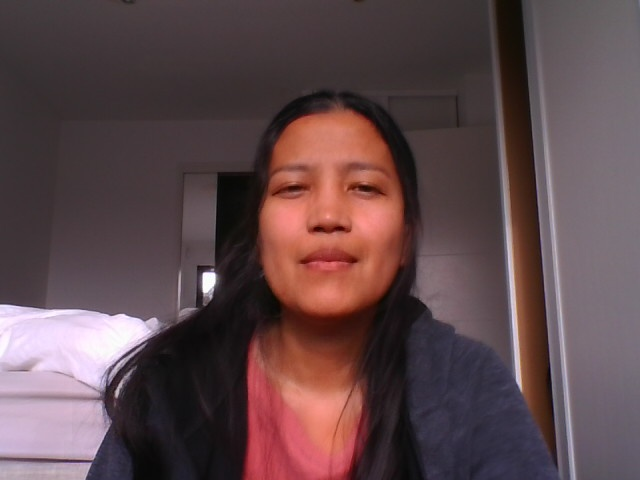face: (257, 92, 403, 318)
